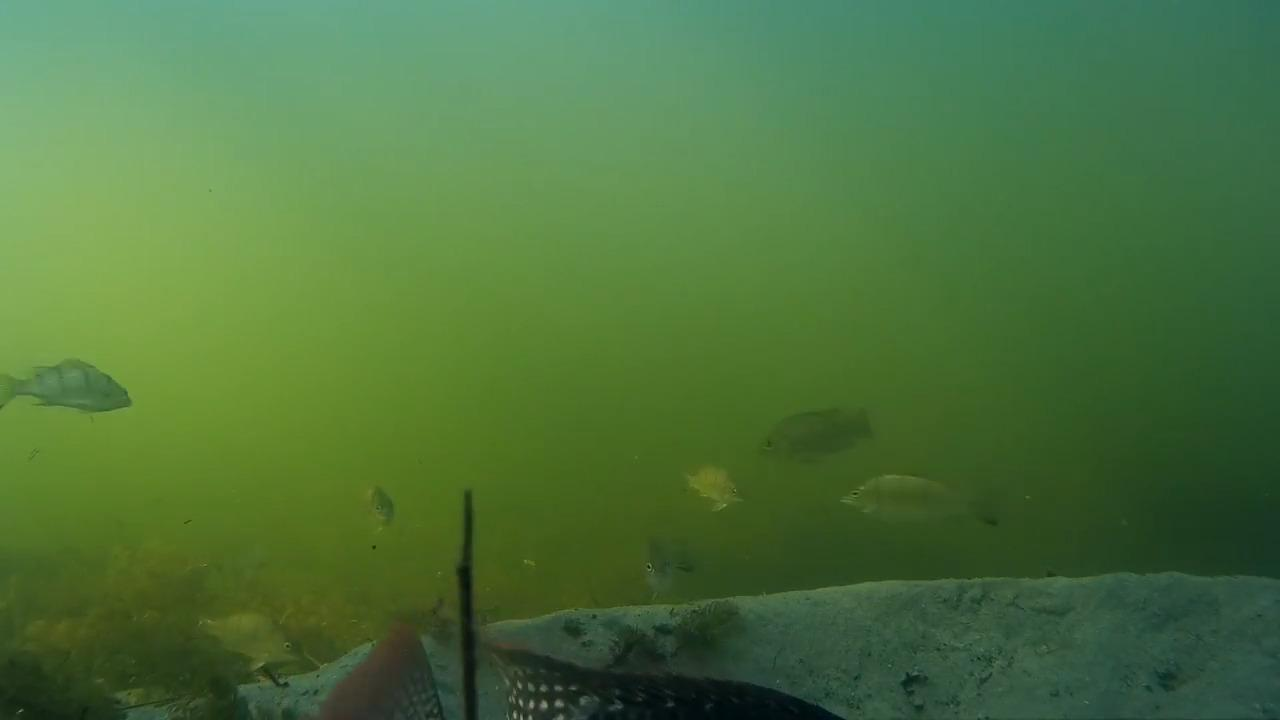Tilapia: (317, 606, 860, 720), (826, 452, 1033, 572), (5, 354, 137, 450), (757, 380, 882, 470), (188, 606, 313, 680), (632, 540, 723, 614), (675, 444, 760, 516), (352, 492, 405, 534)
